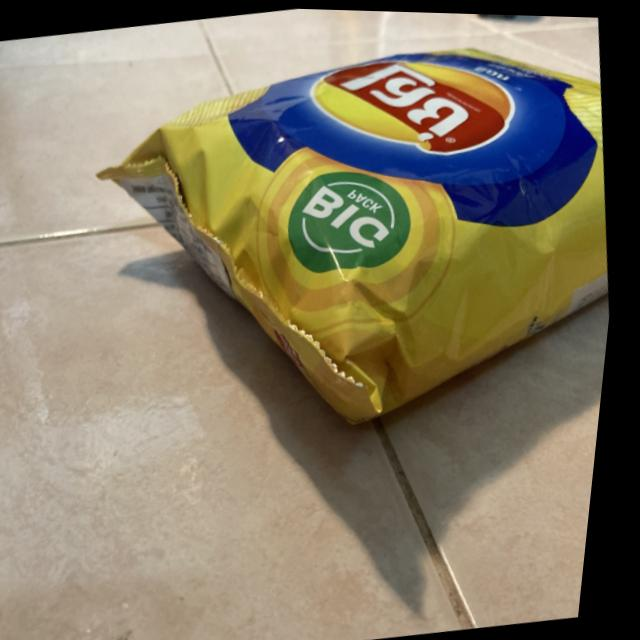LayYellow: (63, 2, 640, 485)
